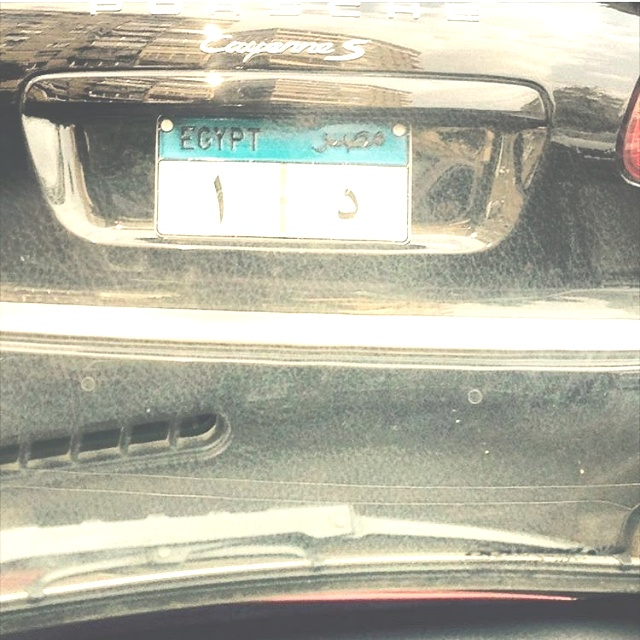License Plate: (148, 111, 416, 251)
